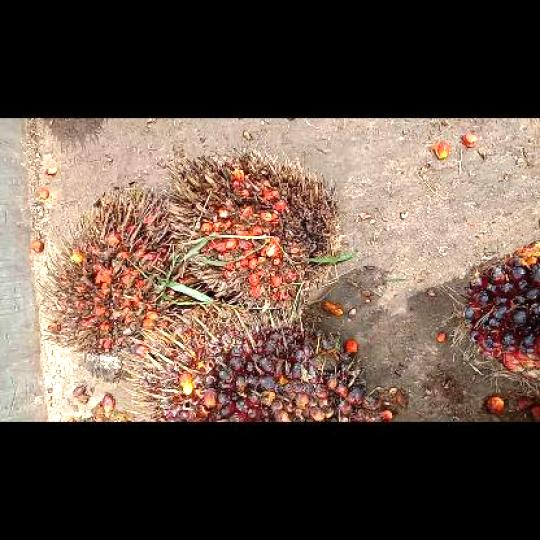masak: (118, 298, 396, 420)
terlalu masak: (156, 153, 340, 322), (36, 186, 175, 385)
